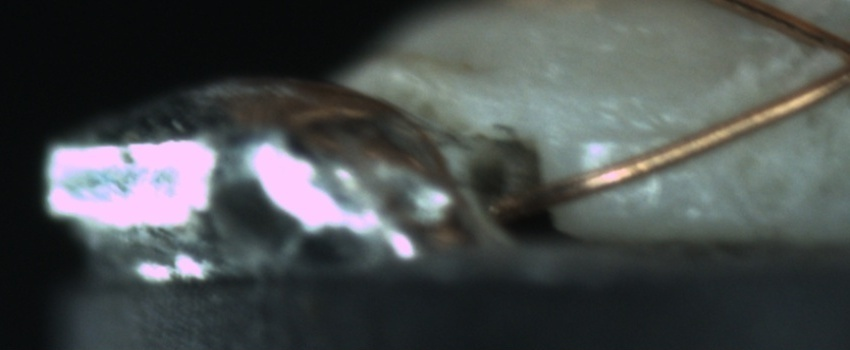CL: (805, 18, 850, 99)
DL: (574, 102, 703, 162)
